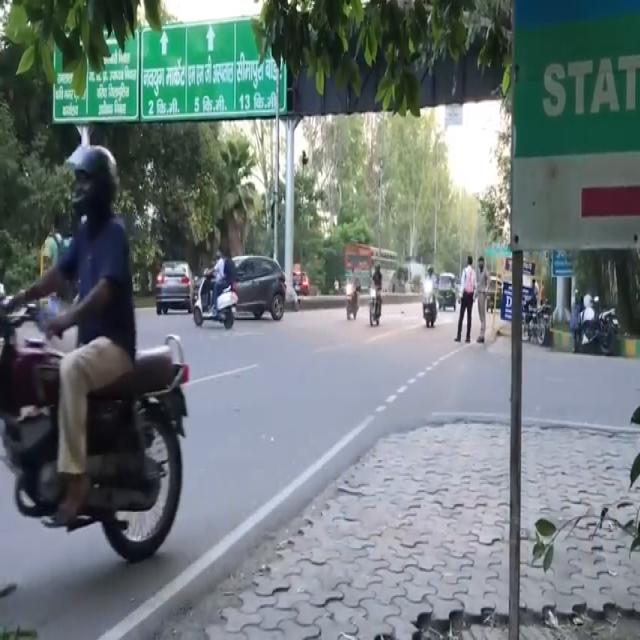MOTORCYCLE: (0, 323, 188, 569), (368, 277, 382, 323), (346, 281, 358, 321)
